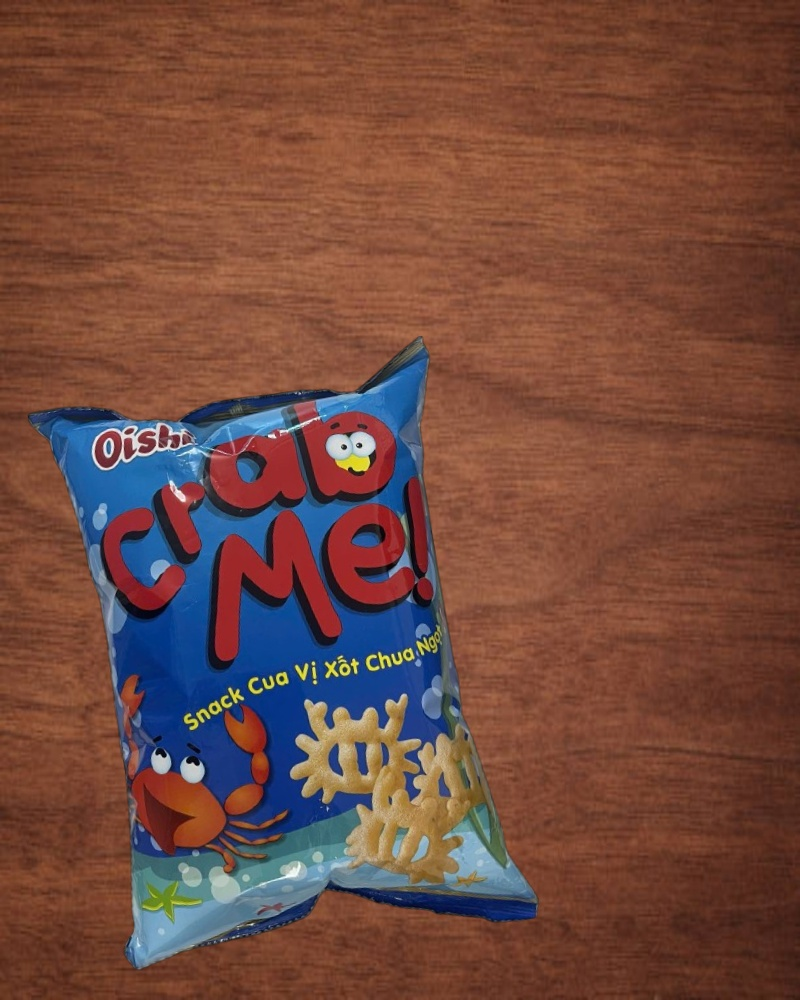Snack chay: (27, 334, 542, 992)
